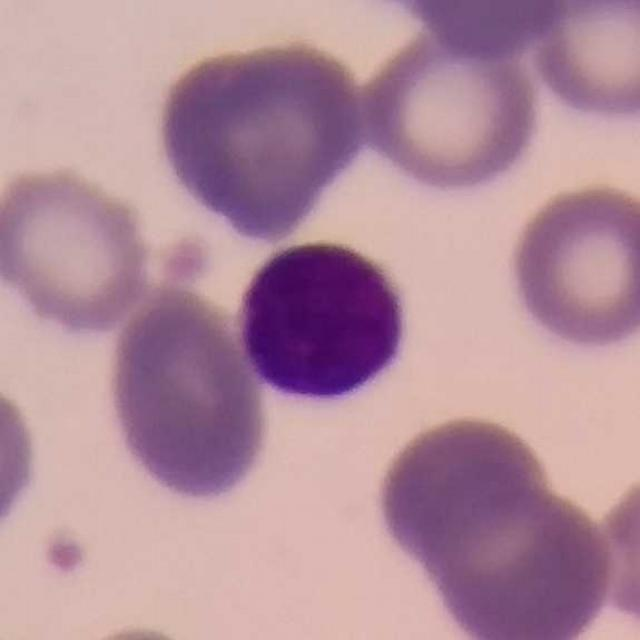Lymphocyte: (228, 230, 445, 418)
Platelets: (38, 525, 92, 582)
RBC: (148, 34, 373, 244), (99, 287, 275, 509), (403, 463, 620, 640), (352, 21, 548, 199), (368, 409, 556, 566), (0, 158, 158, 340), (501, 177, 640, 358), (523, 0, 640, 128), (403, 0, 575, 61), (584, 463, 639, 637), (0, 372, 46, 550)
